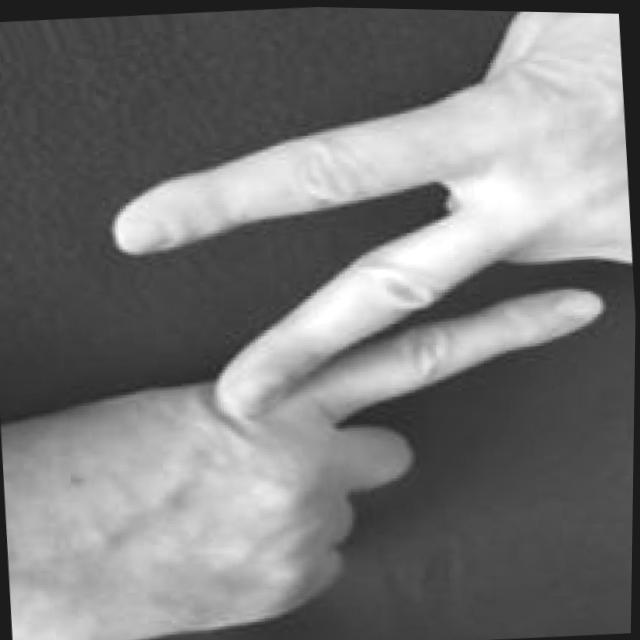Z: (0, 25, 640, 640)
